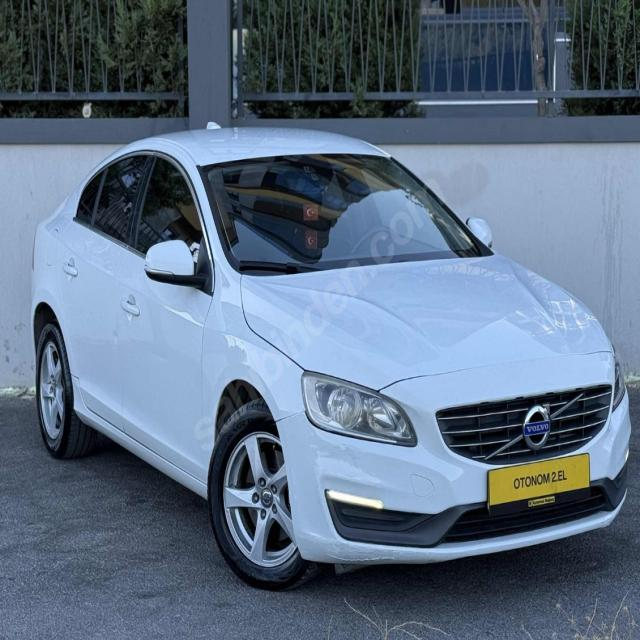volvo: (522, 404, 553, 452)
